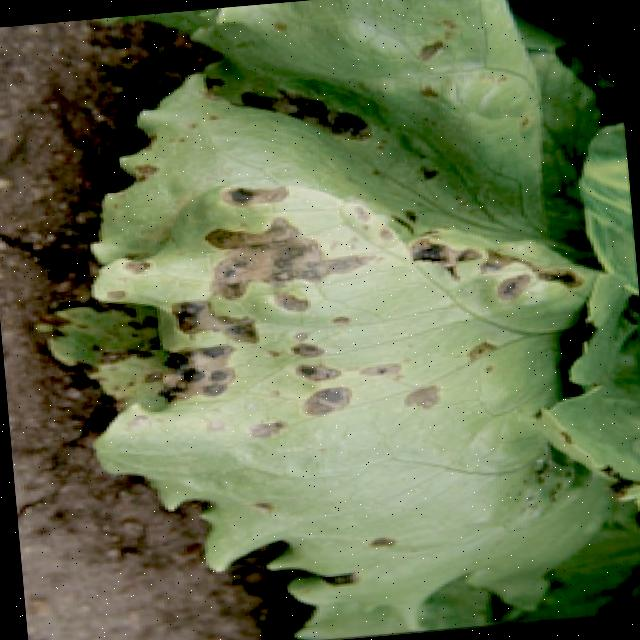Bacterial: (109, 196, 584, 476)
